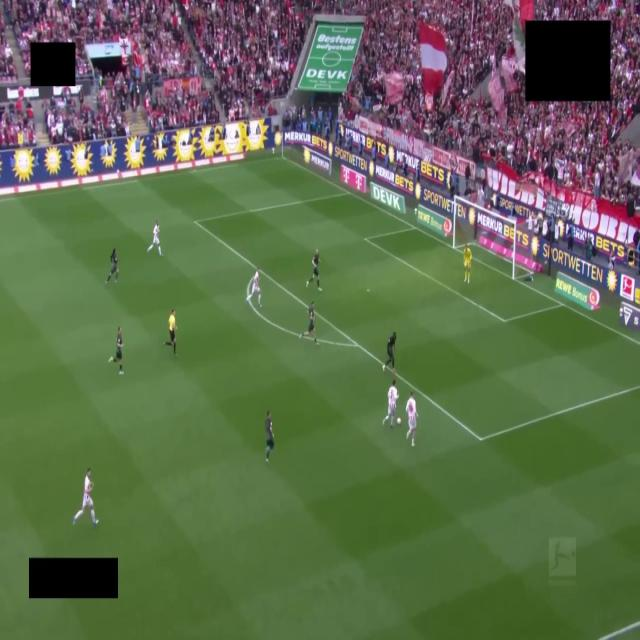ball: (397, 418, 400, 424)
player: (73, 469, 98, 526), (300, 301, 317, 344), (383, 380, 398, 427), (109, 327, 123, 375), (406, 392, 417, 447), (307, 249, 321, 291), (383, 332, 396, 373), (265, 411, 275, 464), (147, 221, 162, 255), (247, 270, 261, 306), (106, 248, 118, 283), (463, 245, 471, 283)
referee: (165, 309, 176, 356)
